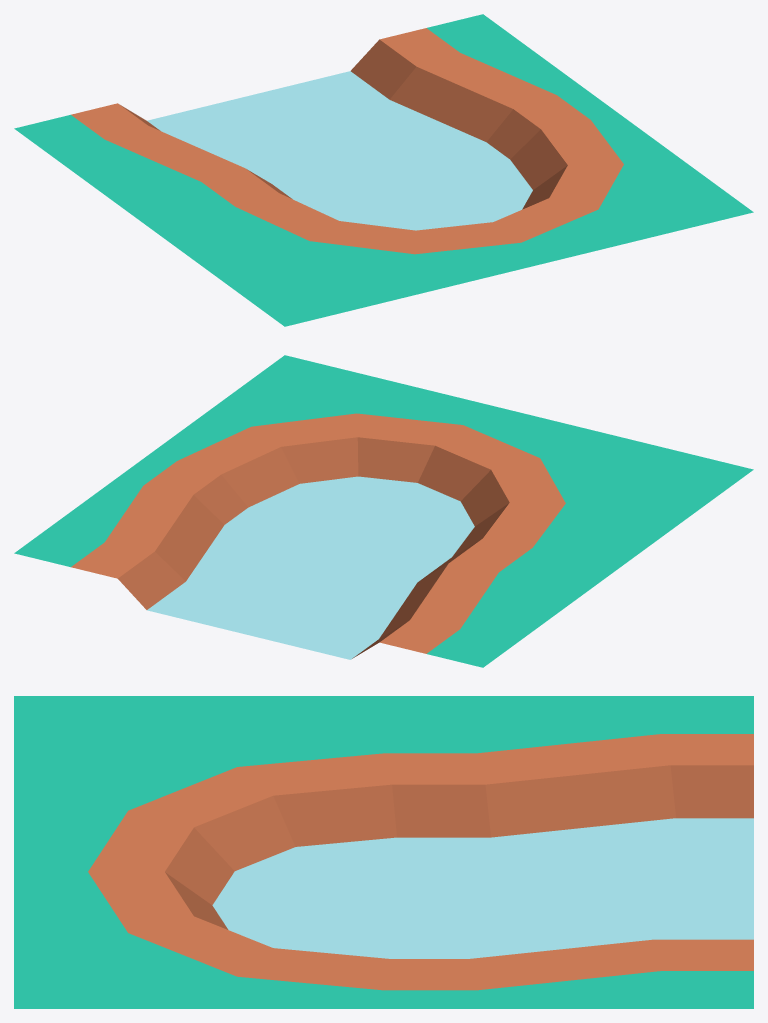
The model's file is ground_riverEndClosed.fbx.
The picture shows the model from 3 angles, top to bottom: view 1: azimuth 30°, elevation 25°; view 2: azimuth 150°, elevation 25°; view 3: azimuth 270°, elevation 25°; orthographic projection. The views are drawn at different scales.
Visible parts, largest first — view 1: ground_riverEndClosed; view 2: ground_riverEndClosed; view 3: ground_riverEndClosed.
Boxes of the visible parts, left/top/right/bottom form: ground_riverEndClosed: left=14, top=14, right=753, bottom=326; ground_riverEndClosed: left=14, top=355, right=753, bottom=667; ground_riverEndClosed: left=14, top=696, right=753, bottom=1008.
Bounding box in the file's own units: 10 × 0.5 × 10.
